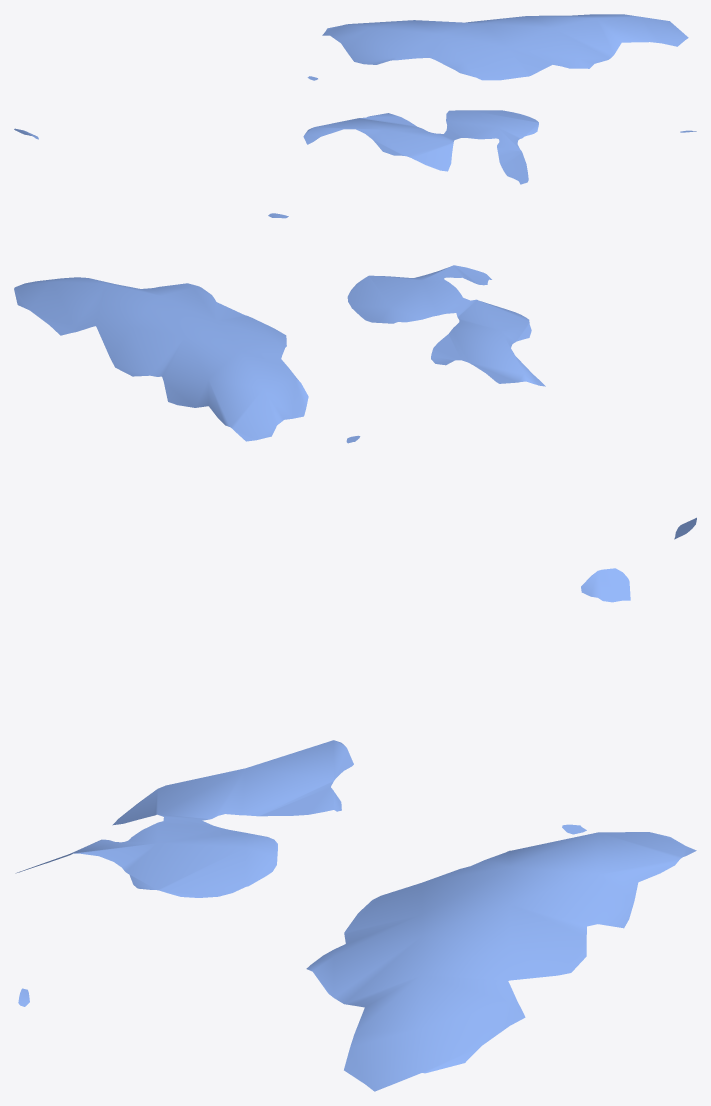
The model's file is jurassic.dae.
3 views of the same model, one above another, from view 1: azimuth 30°, elevation 25°; view 2: azimuth 150°, elevation 25°; view 3: azimuth 270°, elevation 25° (orthographic). The views are drawn at different scales.
Visible parts, largest first — view 1: Object, Object_002; view 2: Object, Object_002; view 3: Object, Object_002, Object_003.
Boxes of the visible parts, <box> form: Object: <box>322,14,688,80</box>; Object_002: <box>303,110,538,184</box>; Object: <box>14,277,308,441</box>; Object_002: <box>347,265,545,386</box>; Object: <box>306,832,696,1091</box>; Object_002: <box>15,740,353,897</box>; Object_003: <box>581,568,630,602</box>.
Size of the model in its own units: 5.35 by 3.01 by 0.3041.
